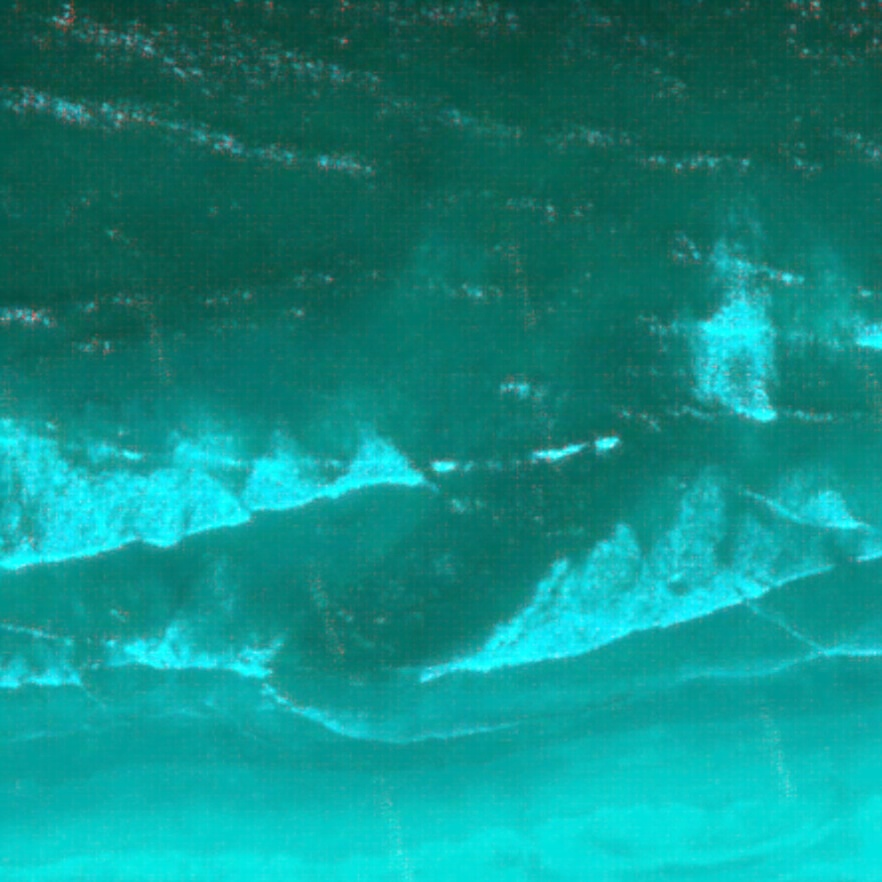rip_current: (307, 238, 721, 624)
